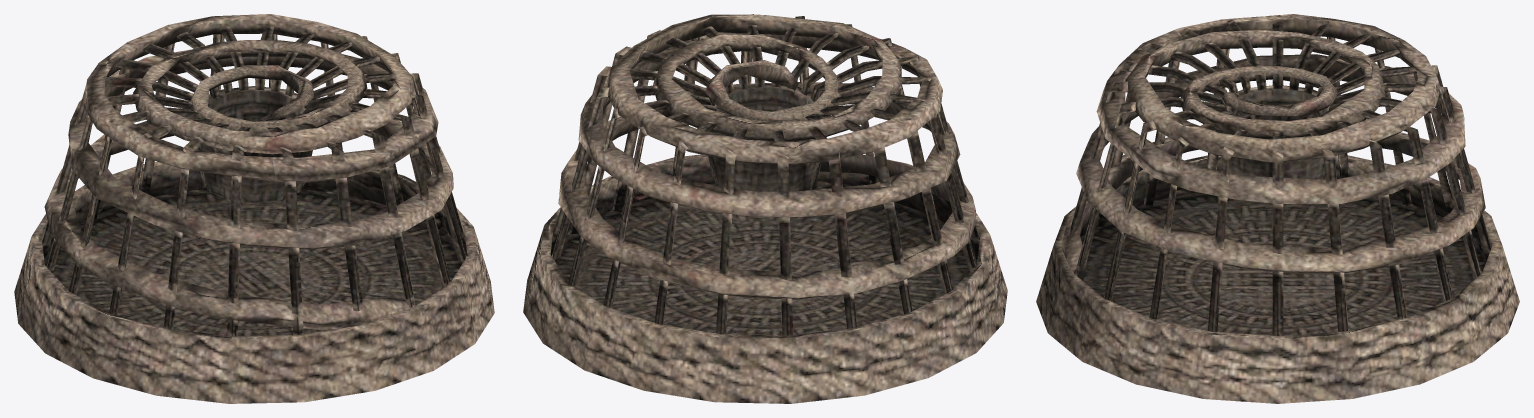
Rendered from crab_pot.FBX.
The picture shows the model from 3 angles, left to right: view 1: azimuth 30°, elevation 25°; view 2: azimuth 150°, elevation 25°; view 3: azimuth 270°, elevation 25°; orthographic projection.
Visible parts, largest first — view 1: crab_pot; view 2: crab_pot; view 3: crab_pot.
Boxes of the visible parts, box(x1,y1,x2,y2) form: crab_pot: box(14, 14, 494, 403); crab_pot: box(523, 14, 1007, 403); crab_pot: box(1036, 14, 1519, 403).
Bounding box in the file's own units: 41.21 × 41.21 × 21.19.
